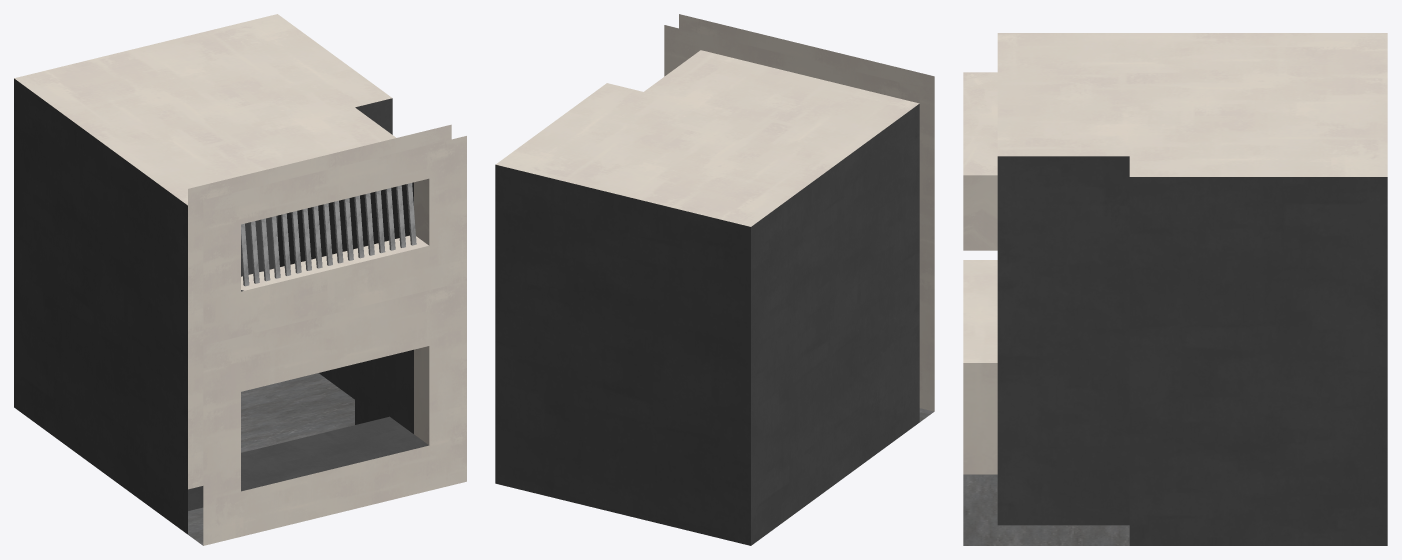
Rendered from canteen store.fbx.
3 renders of one model, left to right at view 1: azimuth 30°, elevation 25°; view 2: azimuth 150°, elevation 25°; view 3: azimuth 270°, elevation 25°, orthographic. The views are drawn at different scales.
Parts seen in each view (by area): view 1: pCube638, pCube642, pCube643, pCube641, pCube639, pCube640; view 2: pCube640, pCube642, pCube643, pCube638; view 3: pCube641, pCube643, pCube638, pCube639.
Boxes of the visible parts, bbox=[...] form: pCube638: bbox=[188, 124, 466, 545]; pCube642: bbox=[14, 78, 187, 534]; pCube643: bbox=[14, 14, 395, 205]; pCube641: bbox=[277, 98, 413, 433]; pCube639: bbox=[188, 373, 354, 545]; pCube640: bbox=[241, 215, 277, 276]; pCube640: bbox=[495, 164, 750, 545]; pCube642: bbox=[751, 104, 919, 545]; pCube643: bbox=[496, 50, 919, 226]; pCube638: bbox=[664, 14, 934, 411]; pCube641: bbox=[997, 156, 1387, 545]; pCube643: bbox=[997, 33, 1387, 176]; pCube638: bbox=[963, 72, 997, 474]; pCube639: bbox=[963, 474, 1129, 545].
Bounding box in the file's own units: 543 × 681 × 675.
